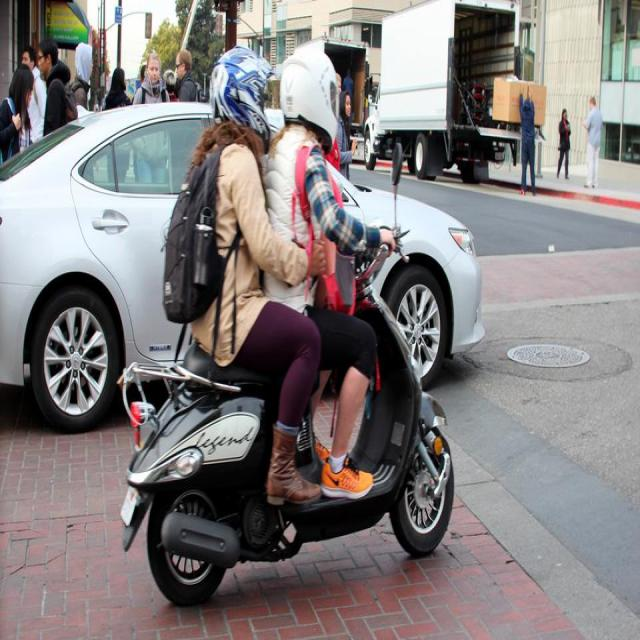body: (160, 42, 333, 518), (260, 41, 398, 502), (131, 50, 172, 184), (37, 38, 79, 139), (0, 62, 35, 167), (105, 66, 131, 184), (20, 44, 48, 145), (517, 82, 538, 198), (334, 88, 359, 182), (581, 95, 604, 191), (65, 41, 95, 111), (173, 48, 198, 102), (555, 106, 571, 182), (129, 63, 146, 107), (341, 68, 354, 124), (324, 132, 341, 172), (87, 86, 108, 113), (162, 67, 176, 102)
